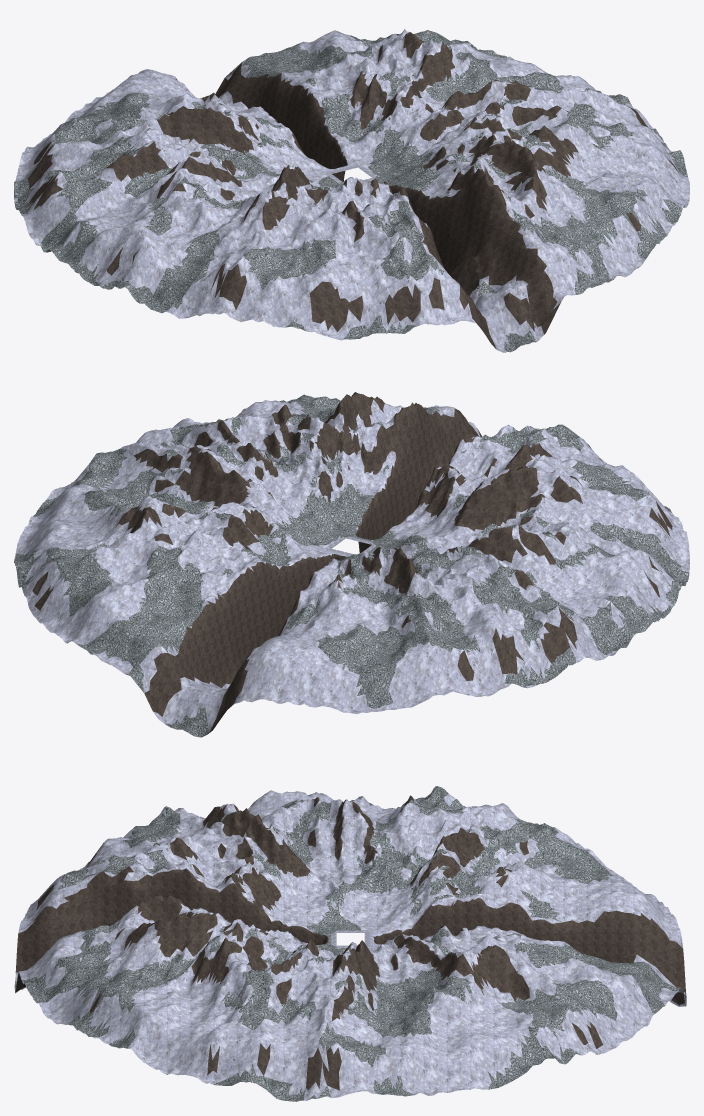
Rendered from backdrop_near_rect_ascent_winter.glb.
The picture shows the model from 3 angles, top to bottom: view 1: azimuth 30°, elevation 25°; view 2: azimuth 150°, elevation 25°; view 3: azimuth 270°, elevation 25°; orthographic projection.
Parts seen in each view (by area): view 1: near_land_S, near_land_W, near_land_E, near_land_N; view 2: near_land_N, near_land_W, near_land_E, near_land_S; view 3: near_land_E, near_land_S, near_land_N, near_land_W.
Boxes of the visible parts, <box> form: near_land_S: <box>264,129,677,352</box>; near_land_W: <box>14,106,338,322</box>; near_land_E: <box>357,31,689,221</box>; near_land_N: <box>25,29,431,181</box>; near_land_N: <box>25,513,440,737</box>; near_land_W: <box>368,465,689,696</box>; near_land_E: <box>14,400,350,596</box>; near_land_S: <box>271,392,673,553</box>; near_land_E: <box>112,922,587,1101</box>; near_land_S: <box>14,826,337,1046</box>; near_land_N: <box>368,828,686,1054</box>; near_land_W: <box>137,786,587,933</box>.
Size of the model in its own units: 577 by 168 by 579.
Materials: 4 (4 with a texture image).
